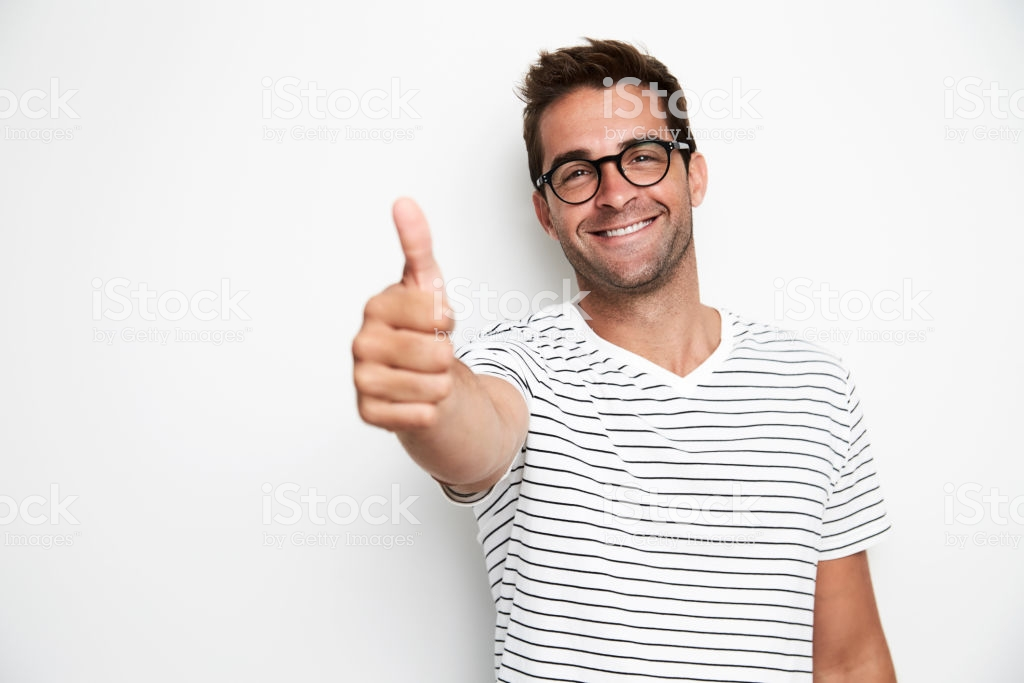thumbsup: (348, 194, 457, 436)
